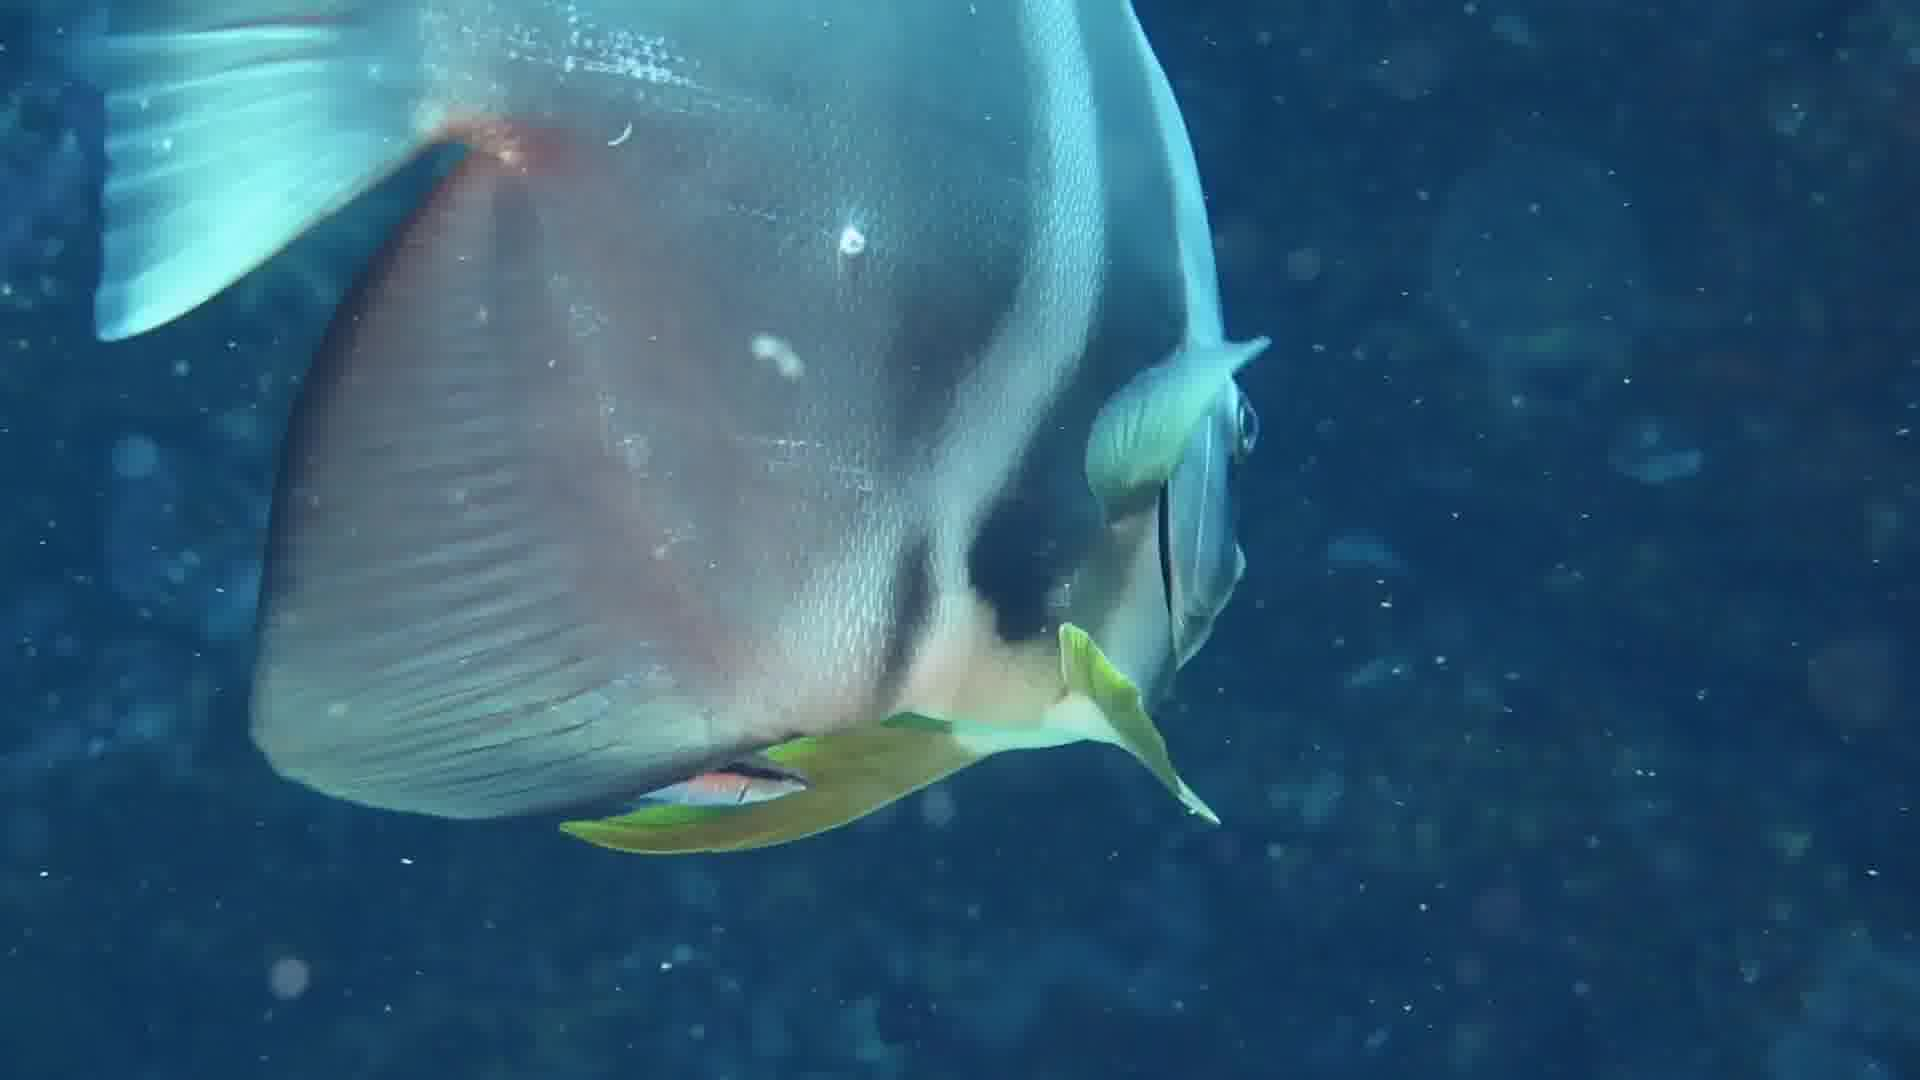Platax teira: (18, 1, 1408, 866)
